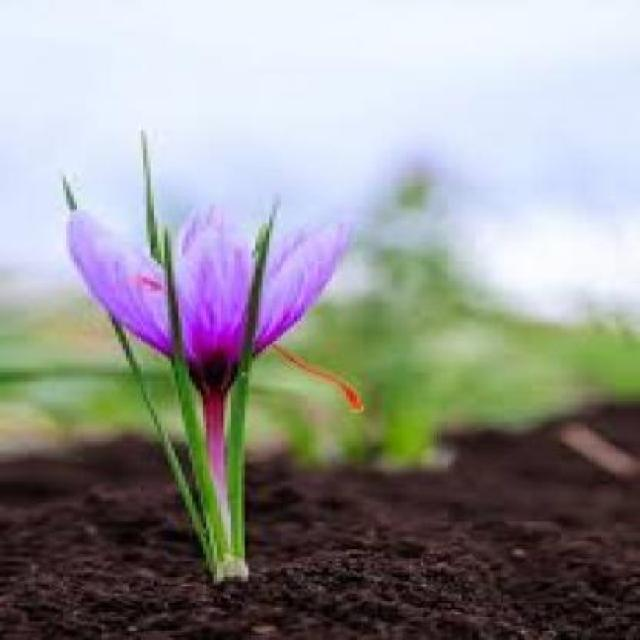Flower: (60, 198, 352, 404)
stigma: (277, 343, 366, 416)
